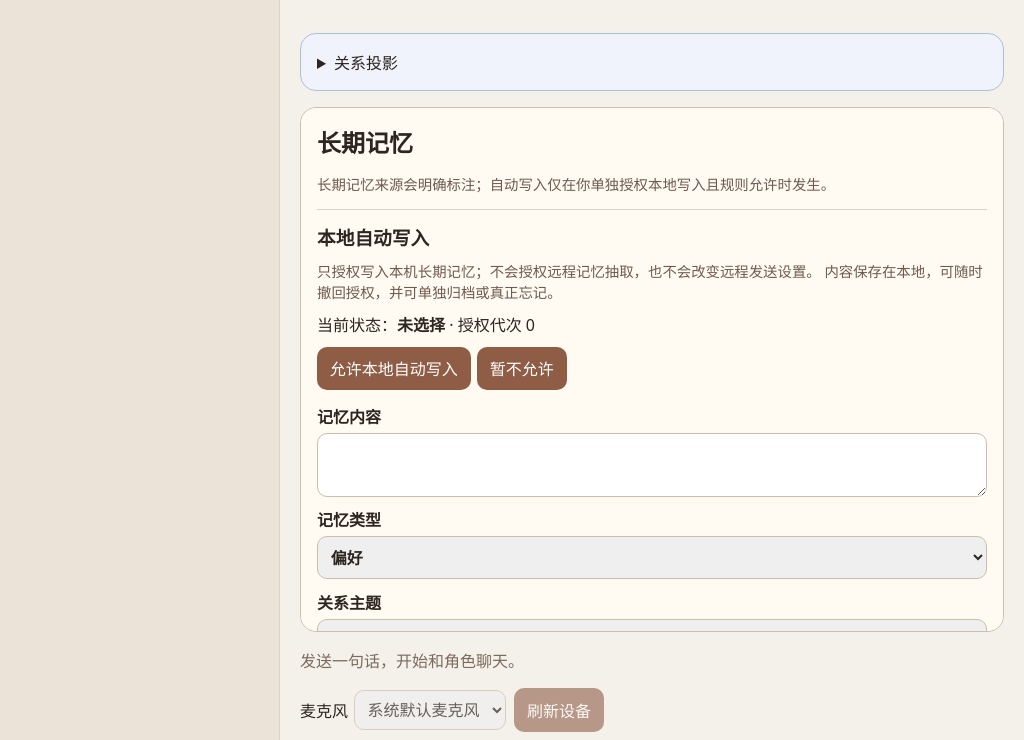
Test case: App › updates independent local write consent with exact disclosure
(page scrolled)
Click the button "允许本地自动写入".
click(394, 368)  # box [317, 347, 471, 390]
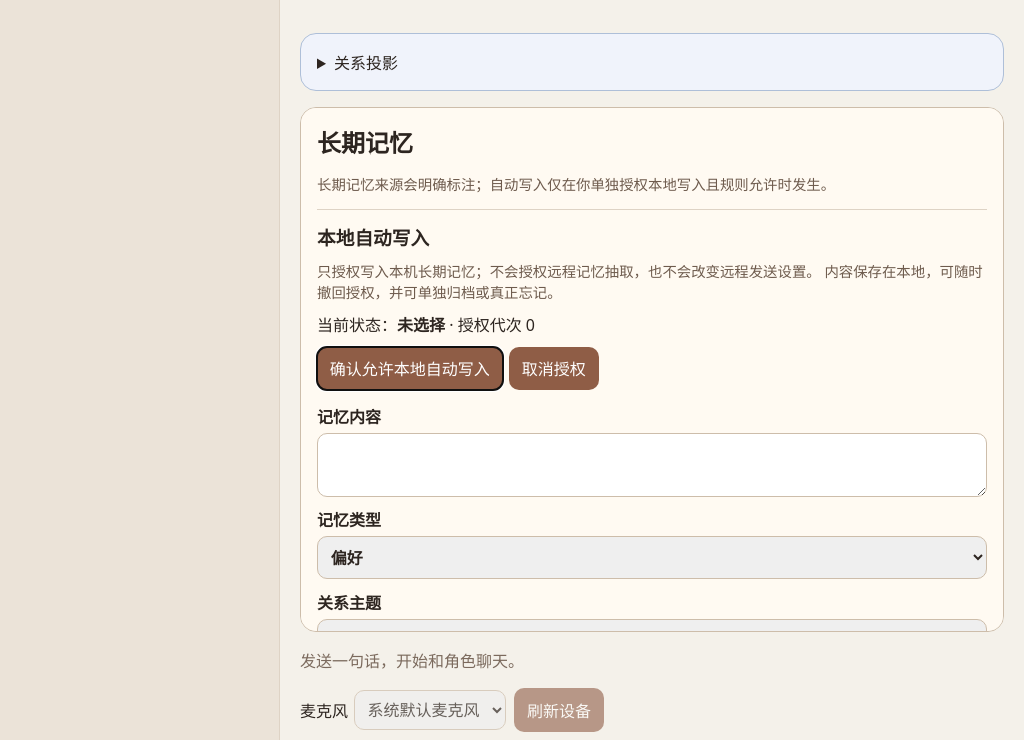
Click the button "确认允许本地自动写入".
click(410, 368)  # box [317, 347, 503, 390]
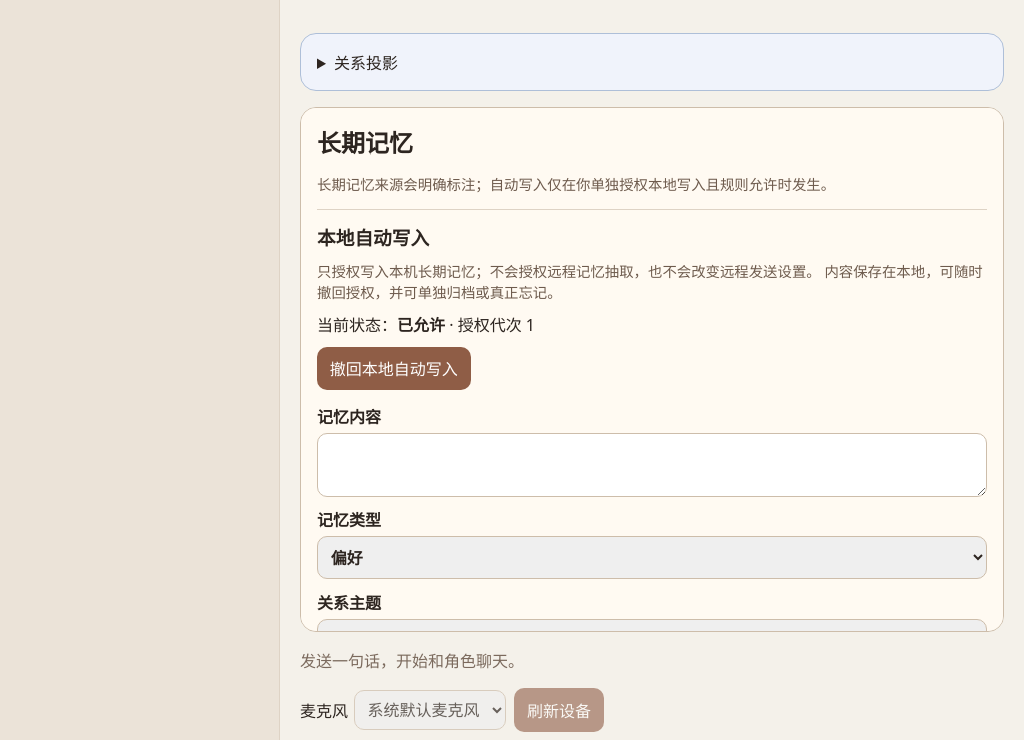
Result: the text "当前状态：已允许 · 授权代次 1" is shown at [317, 314, 535, 336]
